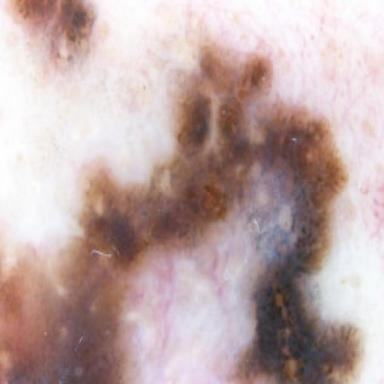Melanoma: (0, 38, 360, 384), (8, 0, 95, 70)
